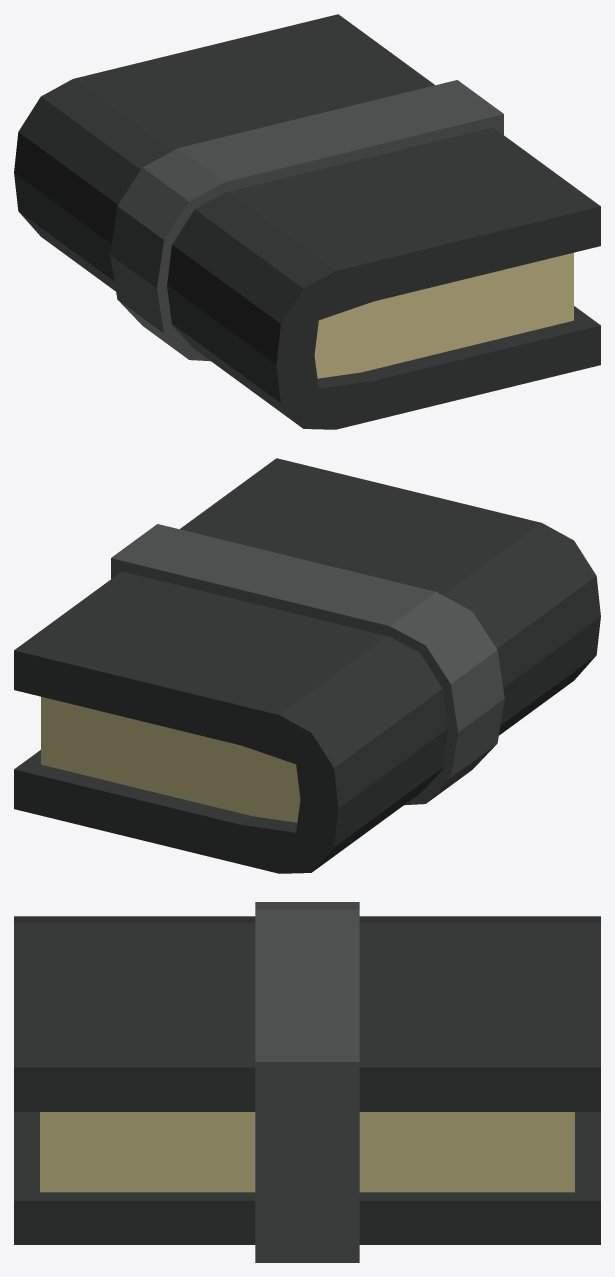
The model's file is Book_5_Black.fbx.
3 views of the same model, one above another, from view 1: azimuth 30°, elevation 25°; view 2: azimuth 150°, elevation 25°; view 3: azimuth 270°, elevation 25° (orthographic). The views are drawn at different scales.
Visible parts, largest first — view 1: Book_5_Black_Part_1, Book_5_Black_Part_3, Book_5_Black_Part_2; view 2: Book_5_Black_Part_1, Book_5_Black_Part_3, Book_5_Black_Part_2; view 3: Book_5_Black_Part_1, Book_5_Black_Part_3, Book_5_Black_Part_2.
Part boxes in pixels (x1,y1,x2,y2): Book_5_Black_Part_1: (14, 14, 600, 429); Book_5_Black_Part_3: (110, 80, 503, 361); Book_5_Black_Part_2: (314, 252, 573, 378); Book_5_Black_Part_1: (14, 458, 600, 873); Book_5_Black_Part_3: (111, 524, 504, 805); Book_5_Black_Part_2: (41, 696, 300, 822); Book_5_Black_Part_1: (14, 916, 600, 1244); Book_5_Black_Part_3: (255, 902, 359, 1262); Book_5_Black_Part_2: (40, 1112, 574, 1192).
Size of the model in its own units: 34.35 by 17 by 45.
